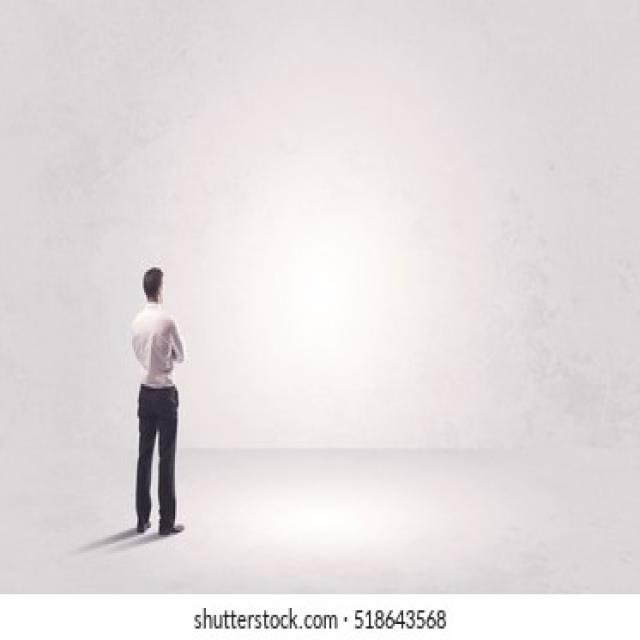standing: (128, 261, 188, 538)
